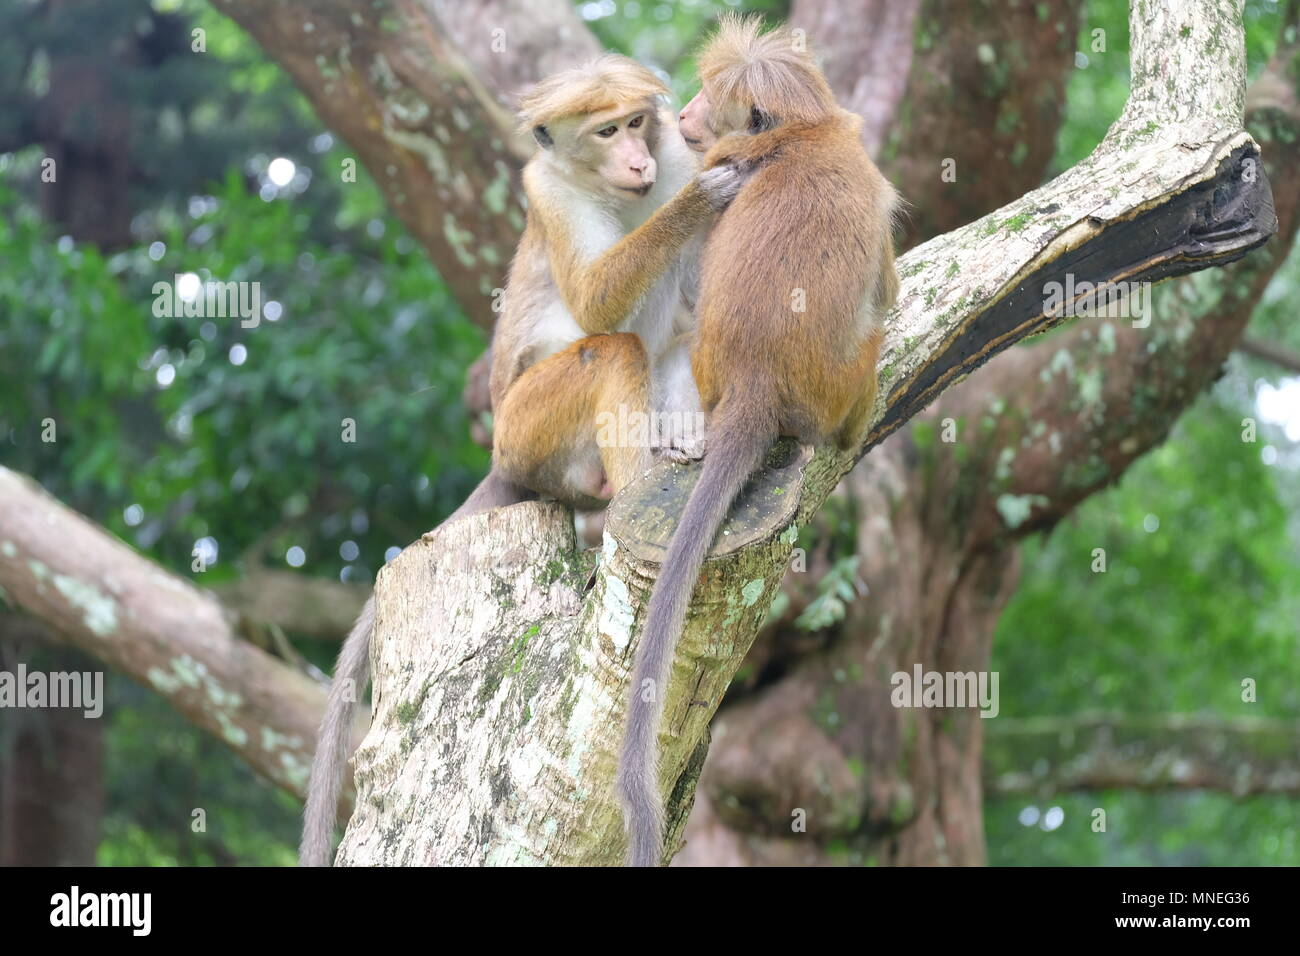Monkey: (457, 33, 700, 514)
